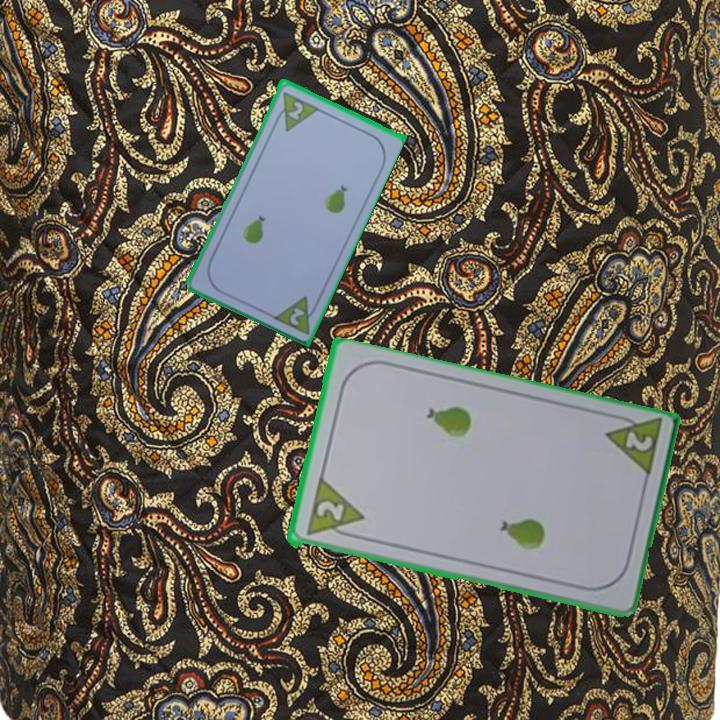2p: (601, 410, 664, 483), (302, 477, 367, 543), (284, 97, 306, 122), (286, 303, 307, 328)
